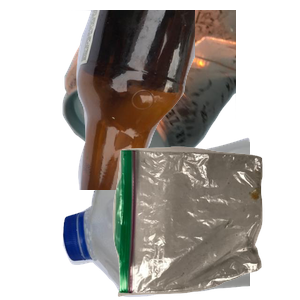glass: (60, 10, 300, 190)
metal: (60, 10, 300, 175)
plastic: (60, 135, 300, 300)
trash: (110, 144, 300, 300)
